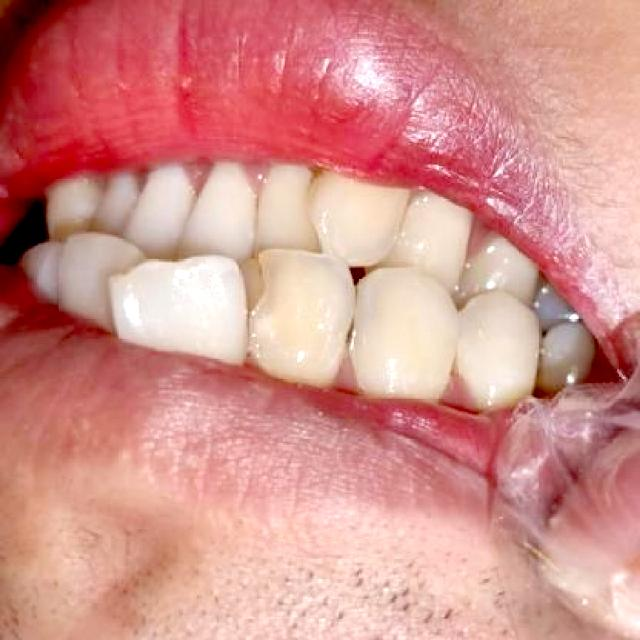Plaque: (327, 268, 387, 362), (236, 249, 278, 325)
